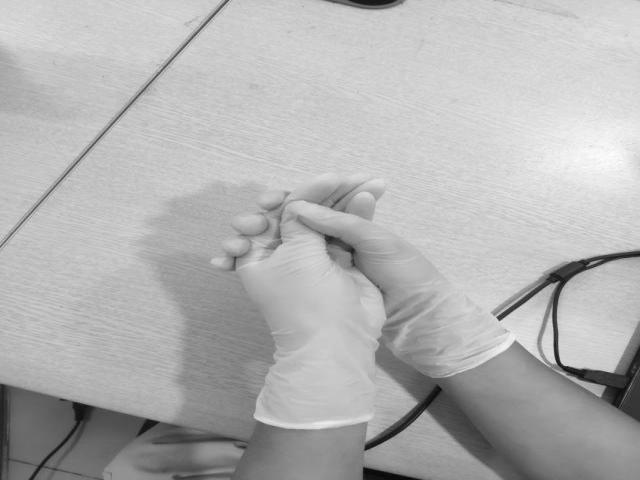gloved: (212, 186, 470, 332), (233, 172, 385, 374)
